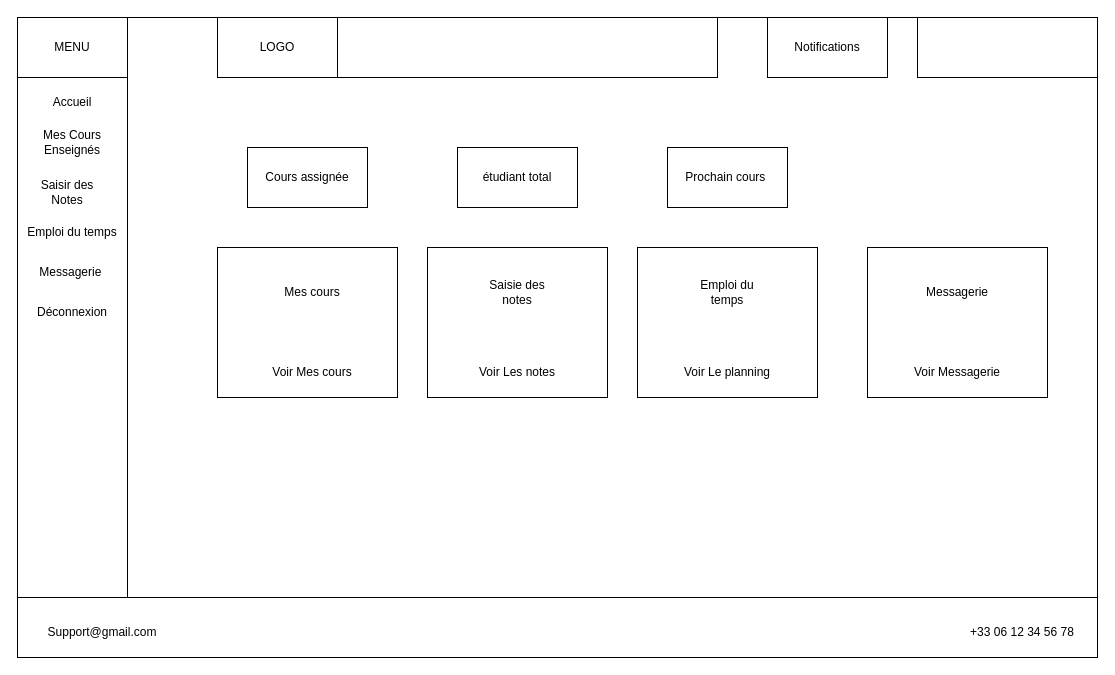
The diagram is 1115 pixels wide and 675 high, and some of its shapes have lost their labels. The centre of each missing label's shape, as x and y in pixels:
"Nom de l'utilisateur" belongs at pixel 1007 47.
"Nom du site" belongs at pixel 527 47.
